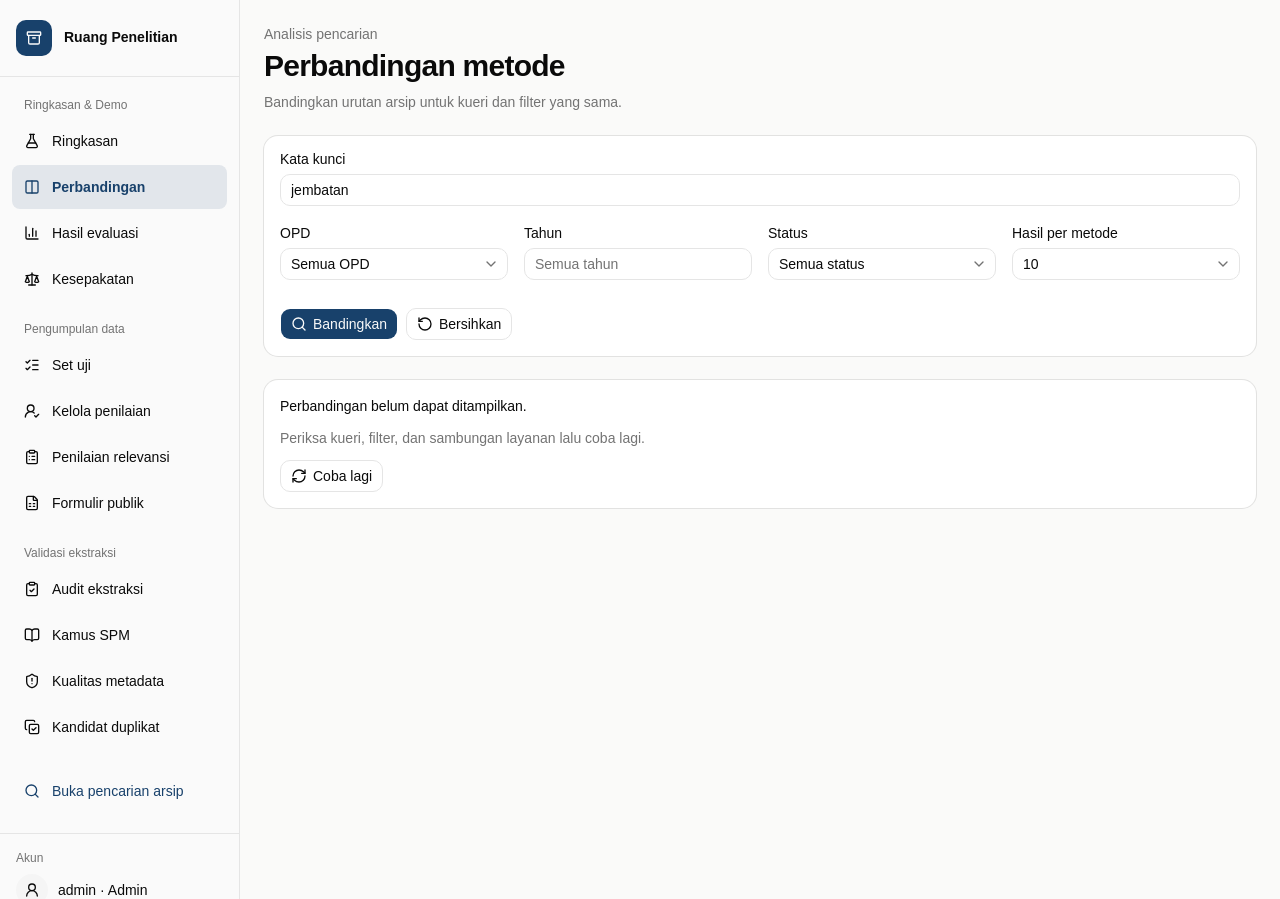
Test case: perbandingan metode React › menangani loading, galat, dan coba lagi
Later steps or results of the test are not shown.
Expected: the message shows "Perbandingan belum dapat ditampilkan.", [280,398,527,414]
Click the button "Coba lagi" at (332, 476), box [280,460,383,492]
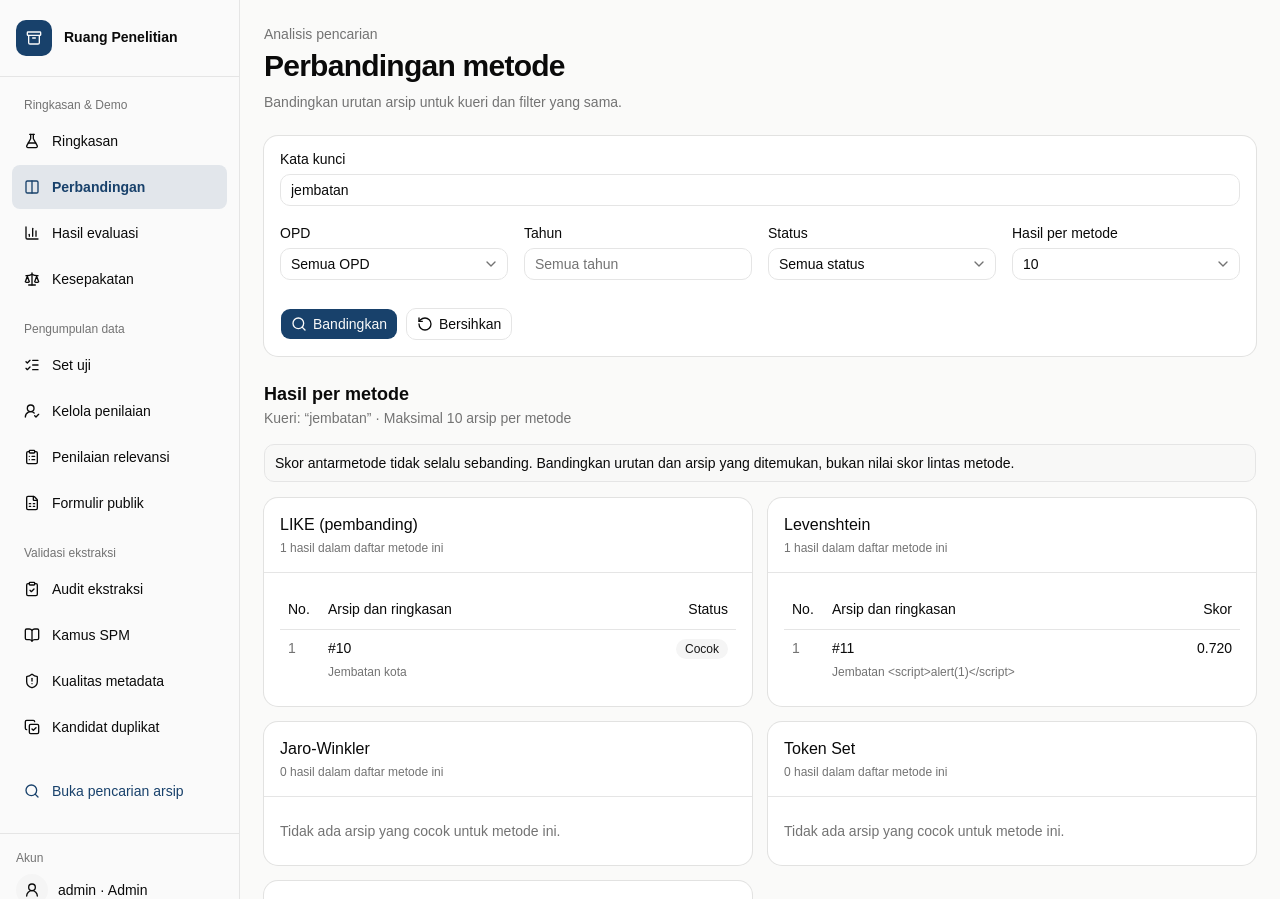
Expected: the heading "Hasil per metode" is shown, [264,384,409,404]
